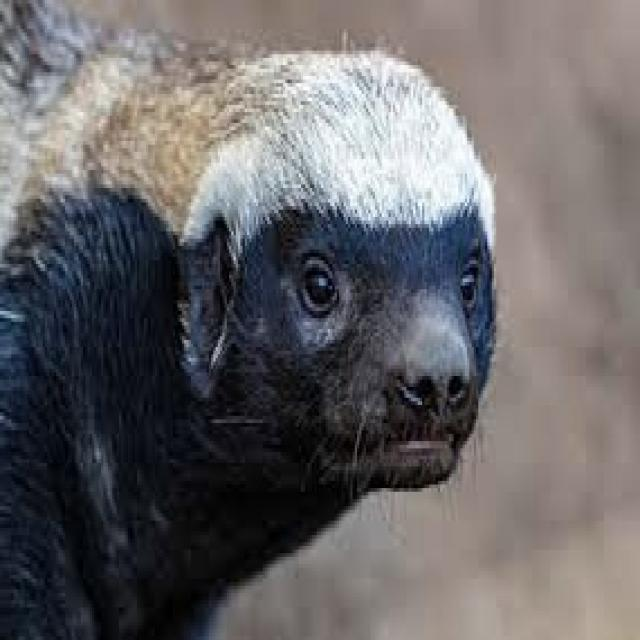badger: (2, 0, 496, 636)
